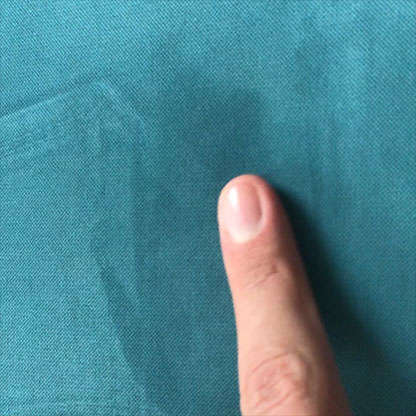fingertip: (201, 161, 296, 265)
